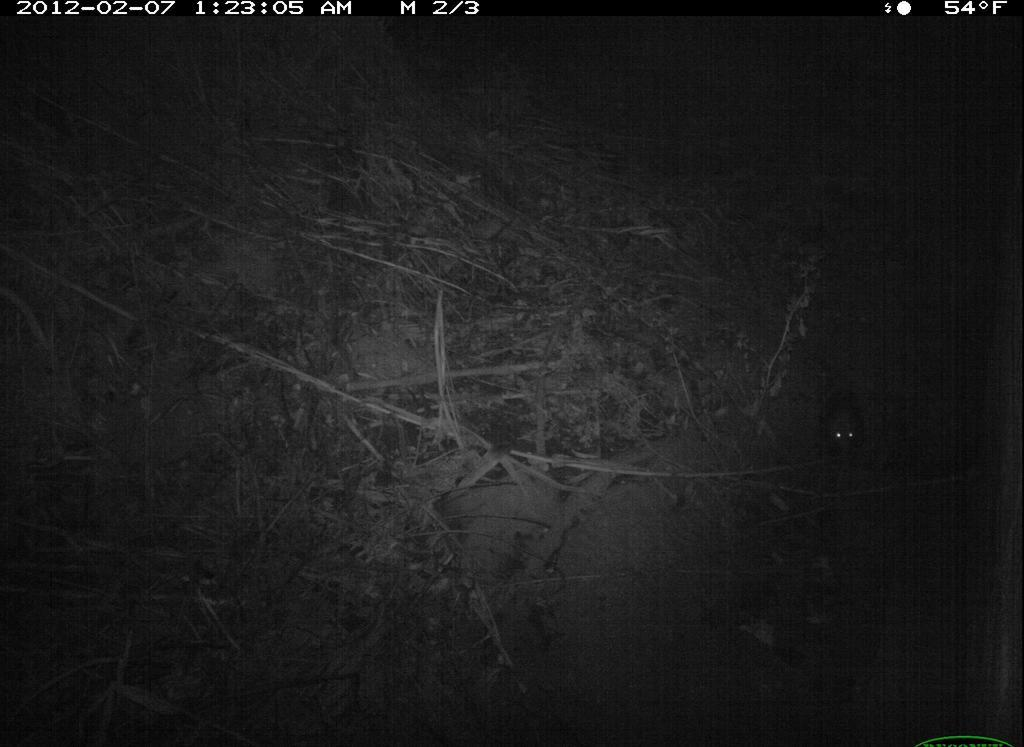opossum: (807, 369, 873, 491)
